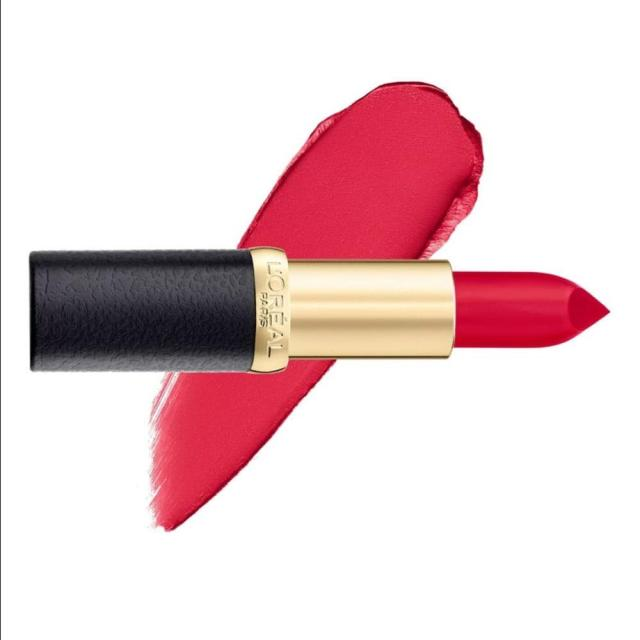lipstick: (0, 201, 619, 398)
